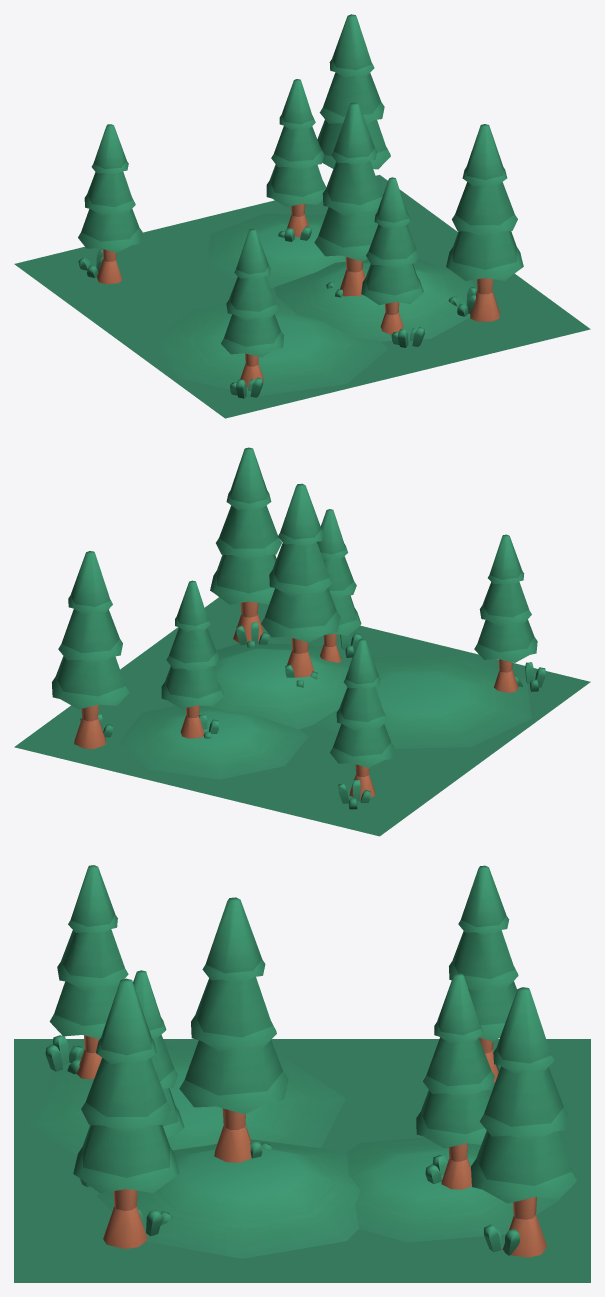
File: trees-forest-001.glb
3 views of the same model, one above another, from view 1: azimuth 30°, elevation 25°; view 2: azimuth 150°, elevation 25°; view 3: azimuth 270°, elevation 25° (orthographic). The views are drawn at different scales.
Visible parts, largest first — view 1: decoration-forest; view 2: decoration-forest; view 3: decoration-forest.
Part boxes in pixels (x1,y1,x2,y2): decoration-forest: (14, 14, 590, 418); decoration-forest: (14, 447, 590, 836); decoration-forest: (14, 865, 590, 1282).
Bounding box in the file's own units: 10 × 5.33 × 10.
Materials: 1 (1 with a texture image).
